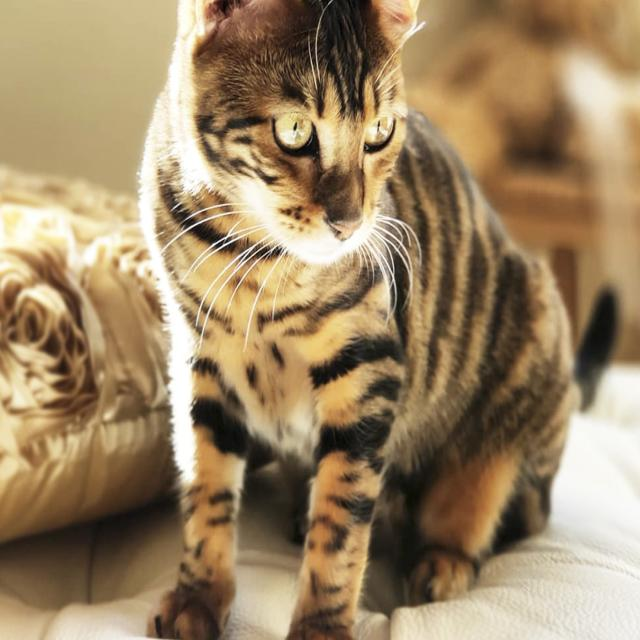Toyger: (136, 0, 624, 640)
